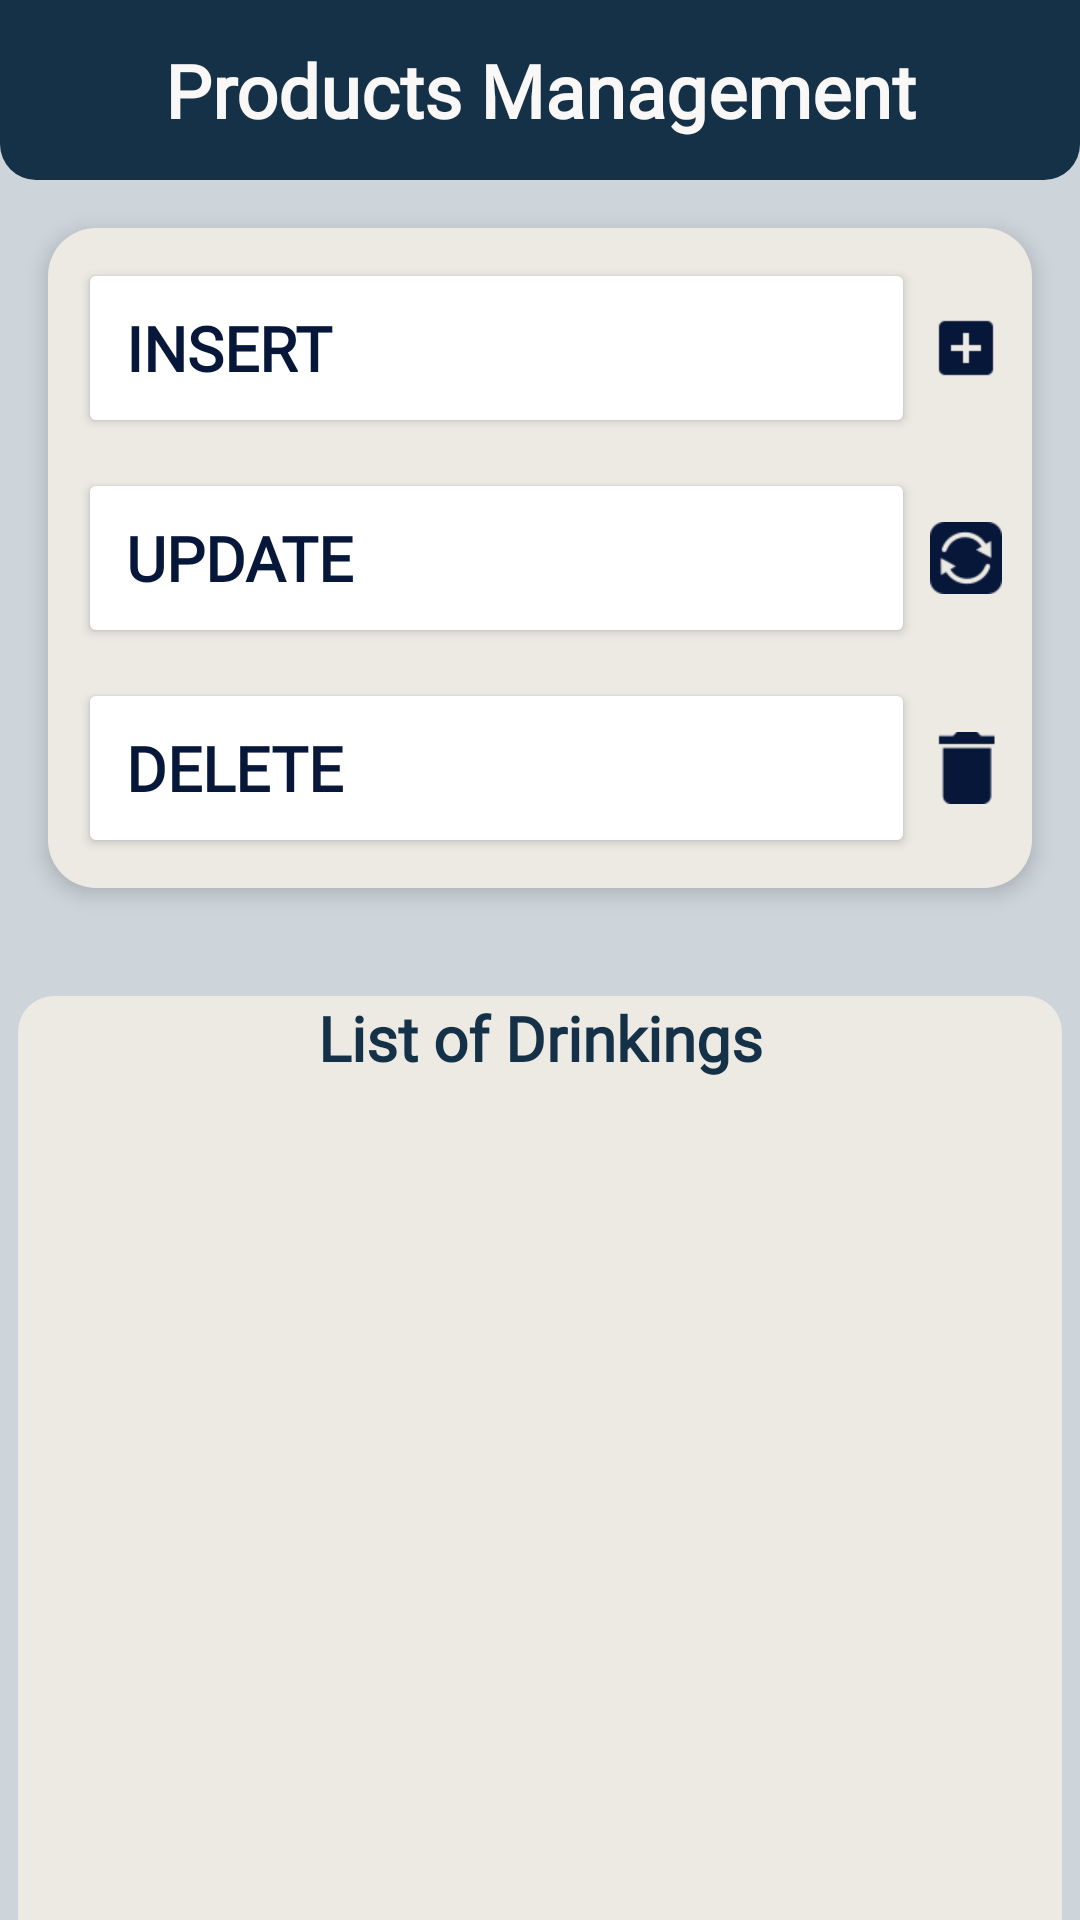

Where to tap for icons on this 1080×1920 app screen, as (x=x, y=y):
add box: (x=966, y=348)
